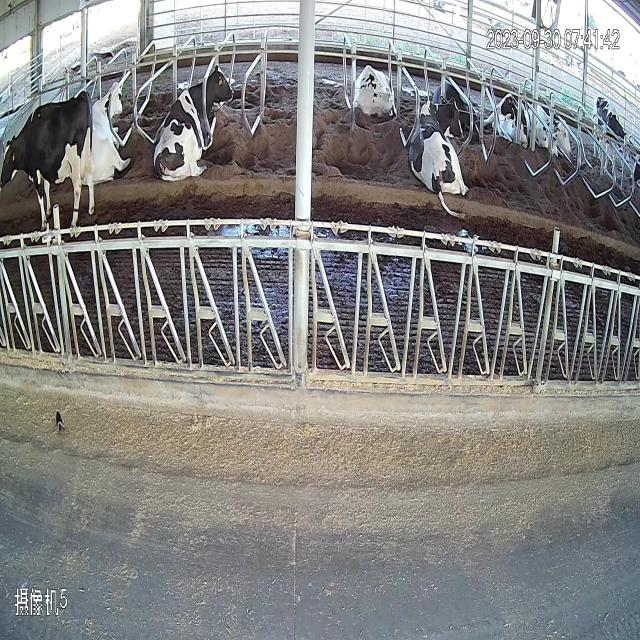lying down: (152, 54, 254, 196), (408, 66, 472, 218), (90, 73, 144, 194), (355, 57, 403, 144), (530, 94, 579, 174), (492, 63, 526, 164)
standing: (0, 71, 94, 239), (587, 65, 640, 235)
